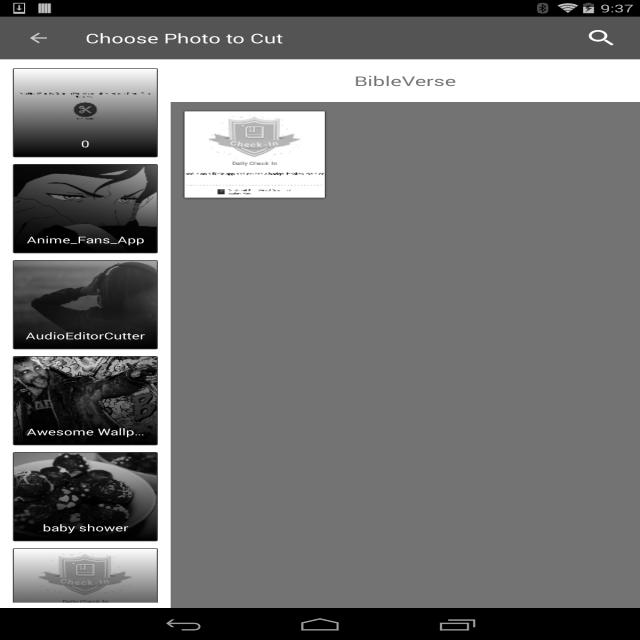ImageButton: (9, 17, 68, 59)
ImageView: (14, 68, 157, 156), (14, 260, 157, 348), (14, 356, 157, 444), (14, 452, 157, 540), (14, 548, 157, 636), (14, 165, 157, 252), (184, 111, 325, 198)
TextView: (14, 68, 157, 156), (14, 260, 157, 348), (14, 356, 157, 444), (14, 452, 157, 540), (14, 548, 157, 636), (14, 165, 157, 252), (85, 29, 284, 47), (572, 22, 631, 54), (354, 72, 457, 90)
